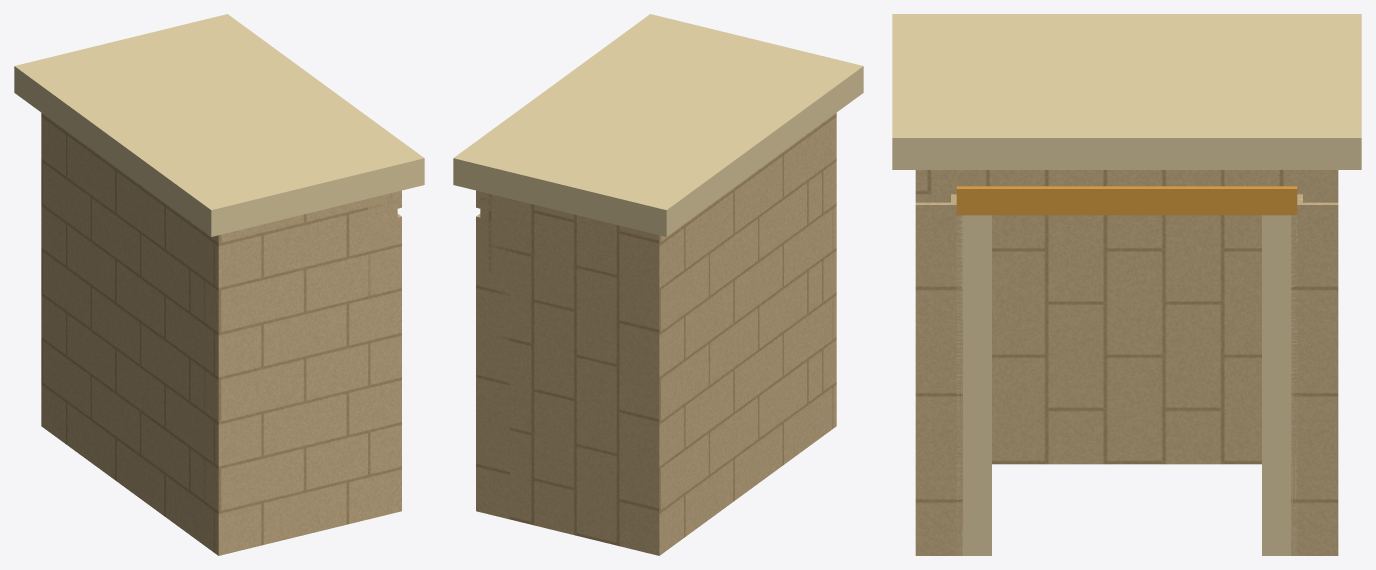
File: district-pavilion.obj
3 renders of one model, left to right at view 1: azimuth 30°, elevation 25°; view 2: azimuth 150°, elevation 25°; view 3: azimuth 270°, elevation 25°, orthographic. The views are drawn at different scales.
Bounding box in the file's own units: 2.5 × 4 × 4.
Materials: 3 (1 with a texture image).
